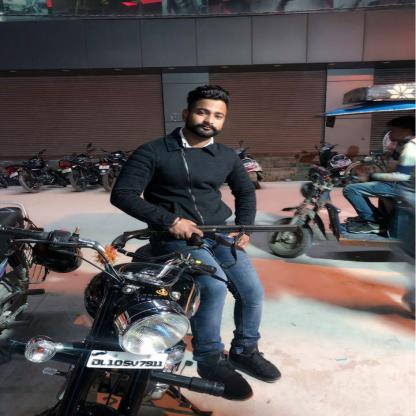rifle: (110, 224, 298, 250)
